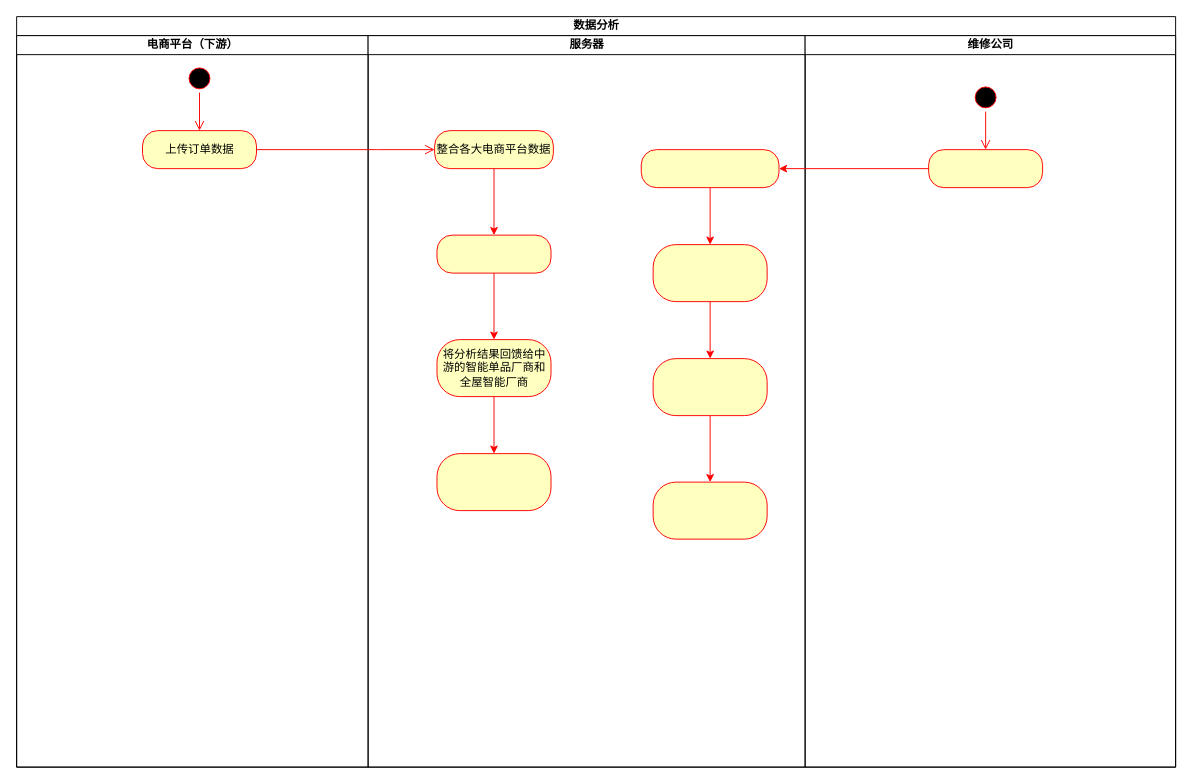
The diagram is 1192 pixels wide and 784 high, and some of its shapes have lost their labels. Each missing label, with the centre of its shape:
"上传维修记录数据" belongs at (x=985, y=168).
"分析数据，发现热销产品和趋势" belongs at (x=493, y=253).
"整合各维修公司维修记录" belongs at (x=709, y=168).
